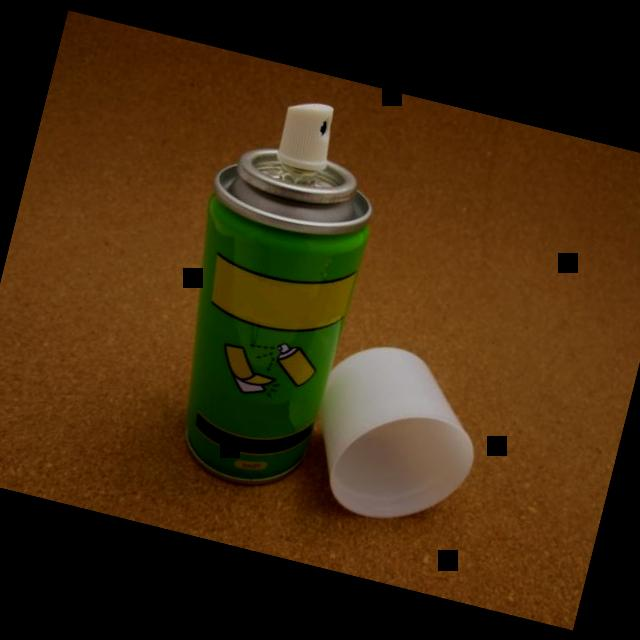chemical_spray_can: (185, 103, 371, 483)
